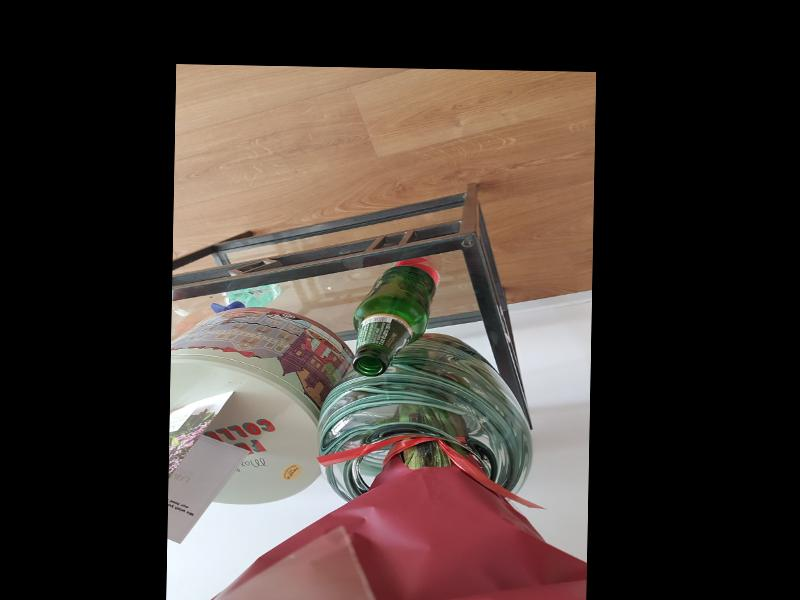Beer: (351, 264, 437, 377)
